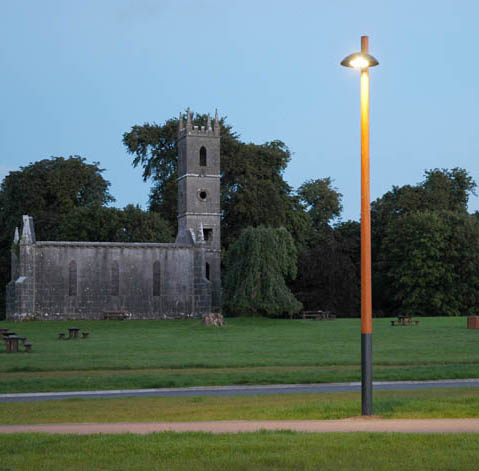pole: (322, 20, 407, 428)
